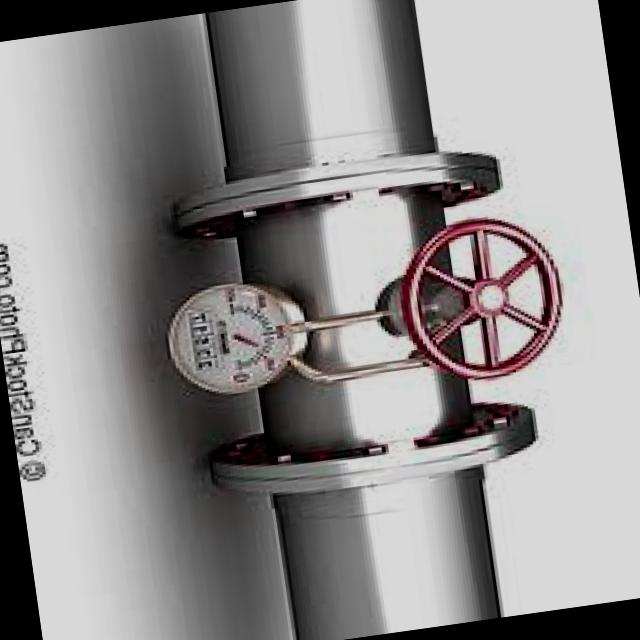gas: (103, 0, 636, 640)
